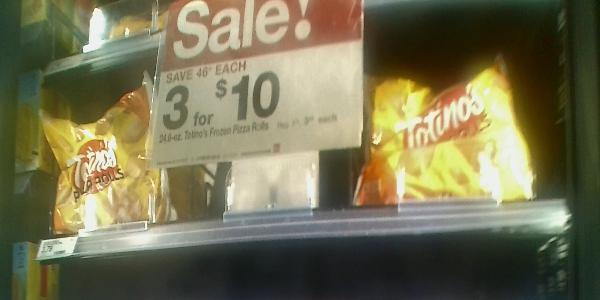icecream: (366, 64, 543, 206), (39, 96, 158, 233)
